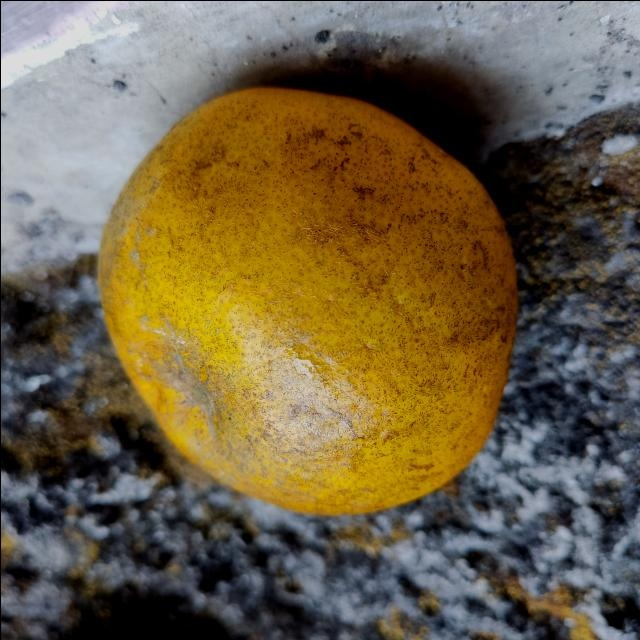agrume: (100, 83, 517, 517)
